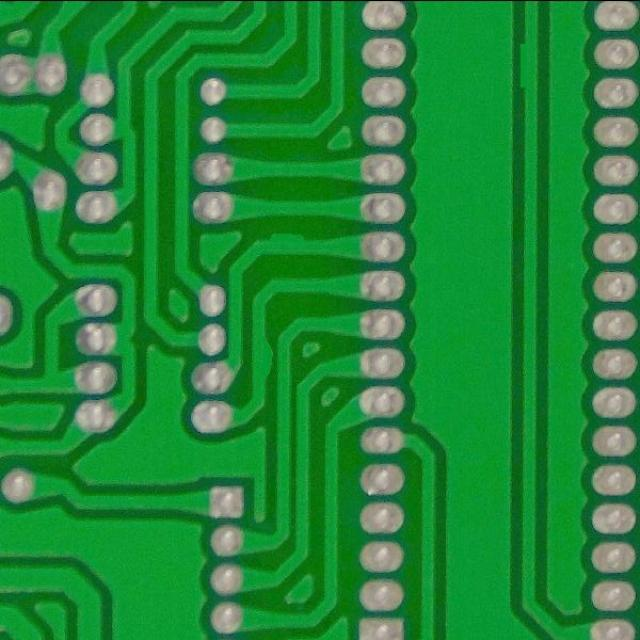Spur: (513, 34, 548, 96), (262, 226, 315, 263), (244, 334, 278, 386)
